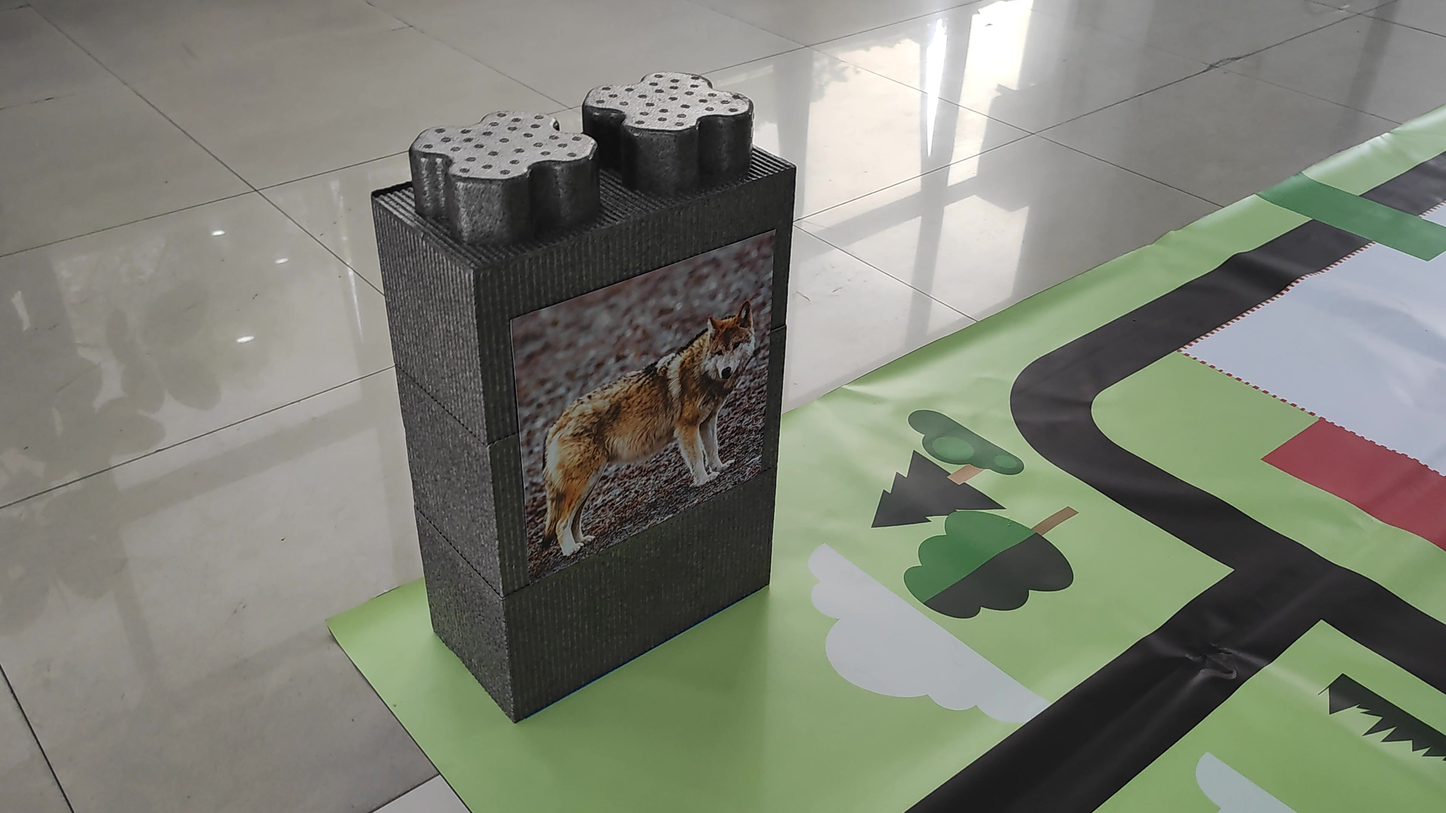wolf: (516, 304, 757, 579)
